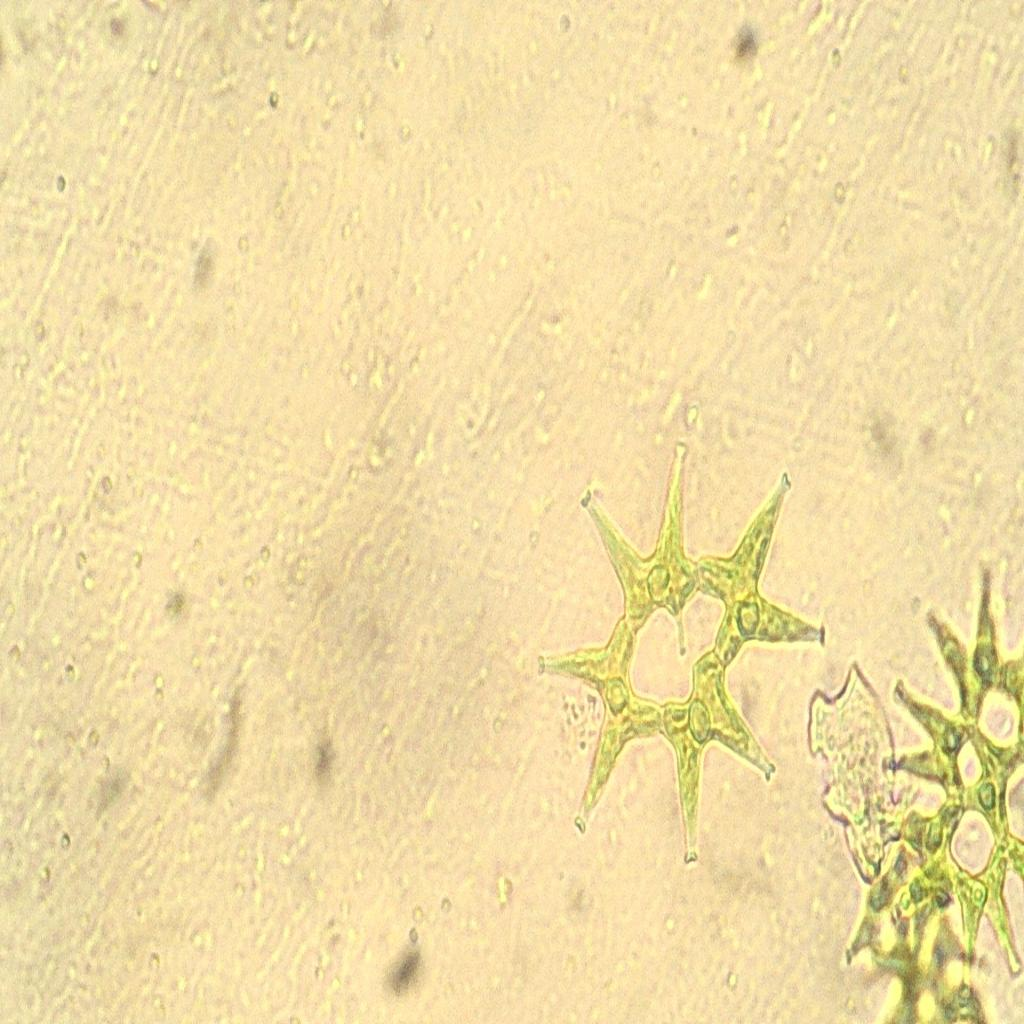Pediastrum_75FO: (522, 431, 834, 872)
